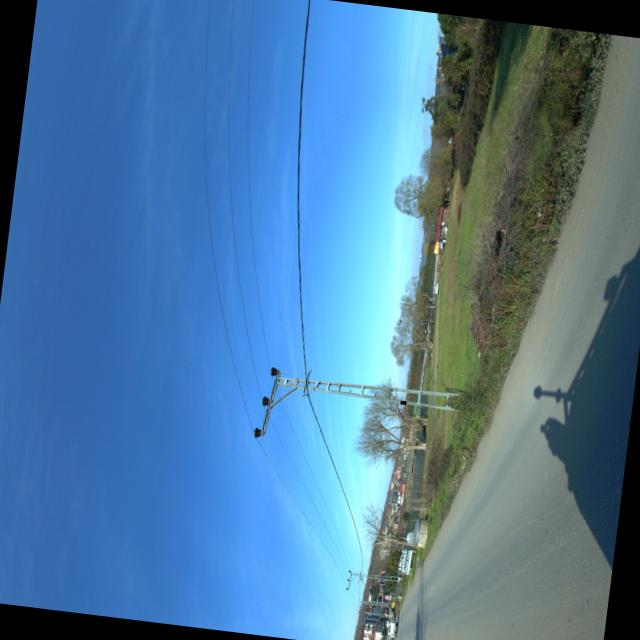Utility Pole Information Plate: (400, 399, 406, 403)
